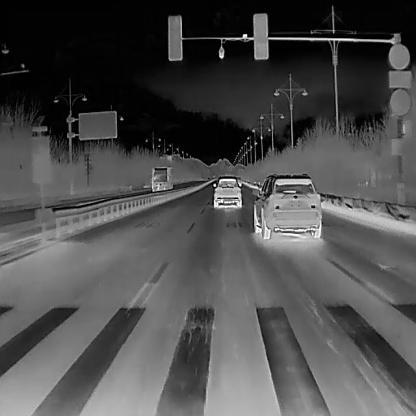car: (252, 170, 321, 240), (212, 176, 241, 208), (149, 164, 173, 191)
